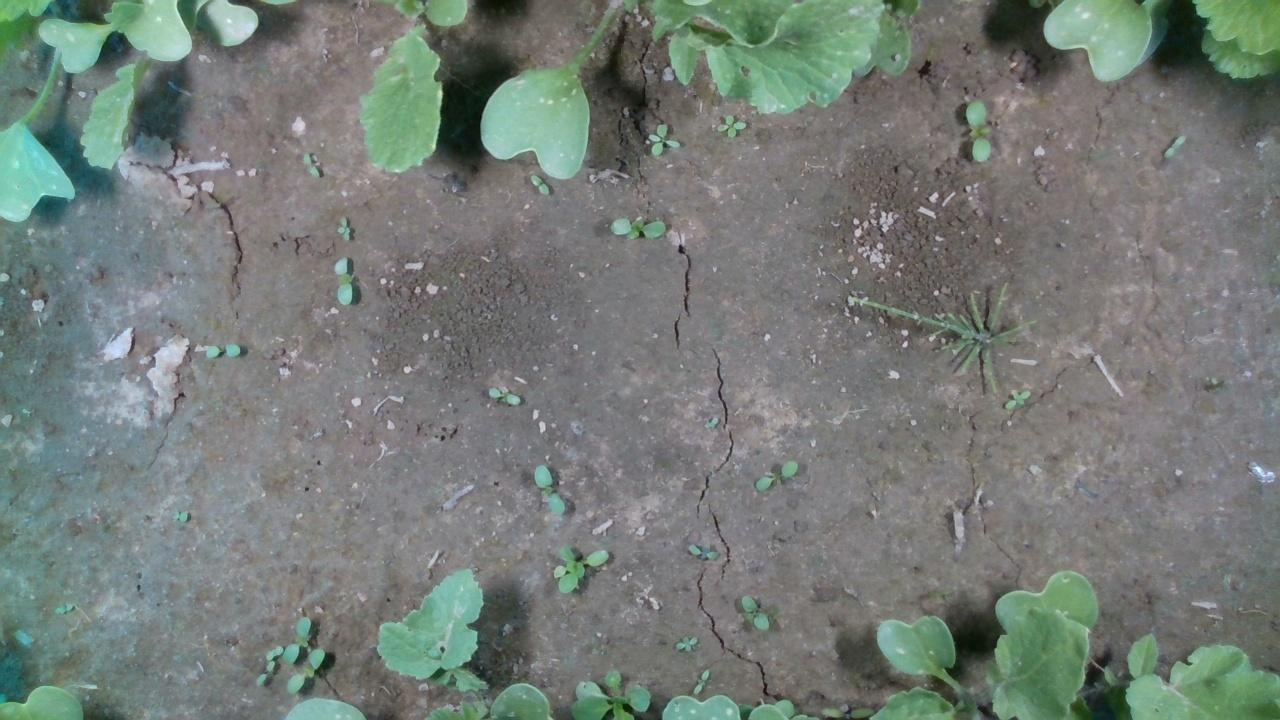weed: (963, 98, 990, 164), (532, 462, 565, 516), (606, 213, 665, 239), (754, 458, 798, 491), (646, 121, 680, 155), (331, 254, 353, 305), (739, 594, 769, 631), (714, 110, 746, 136), (202, 340, 241, 359), (1161, 132, 1186, 160), (486, 385, 521, 405), (686, 540, 718, 560), (1002, 388, 1029, 410), (301, 150, 320, 179), (255, 658, 273, 685), (528, 174, 549, 196), (692, 667, 709, 694), (335, 214, 351, 241), (673, 633, 697, 651), (264, 643, 282, 658), (53, 601, 73, 614), (169, 509, 187, 523)
